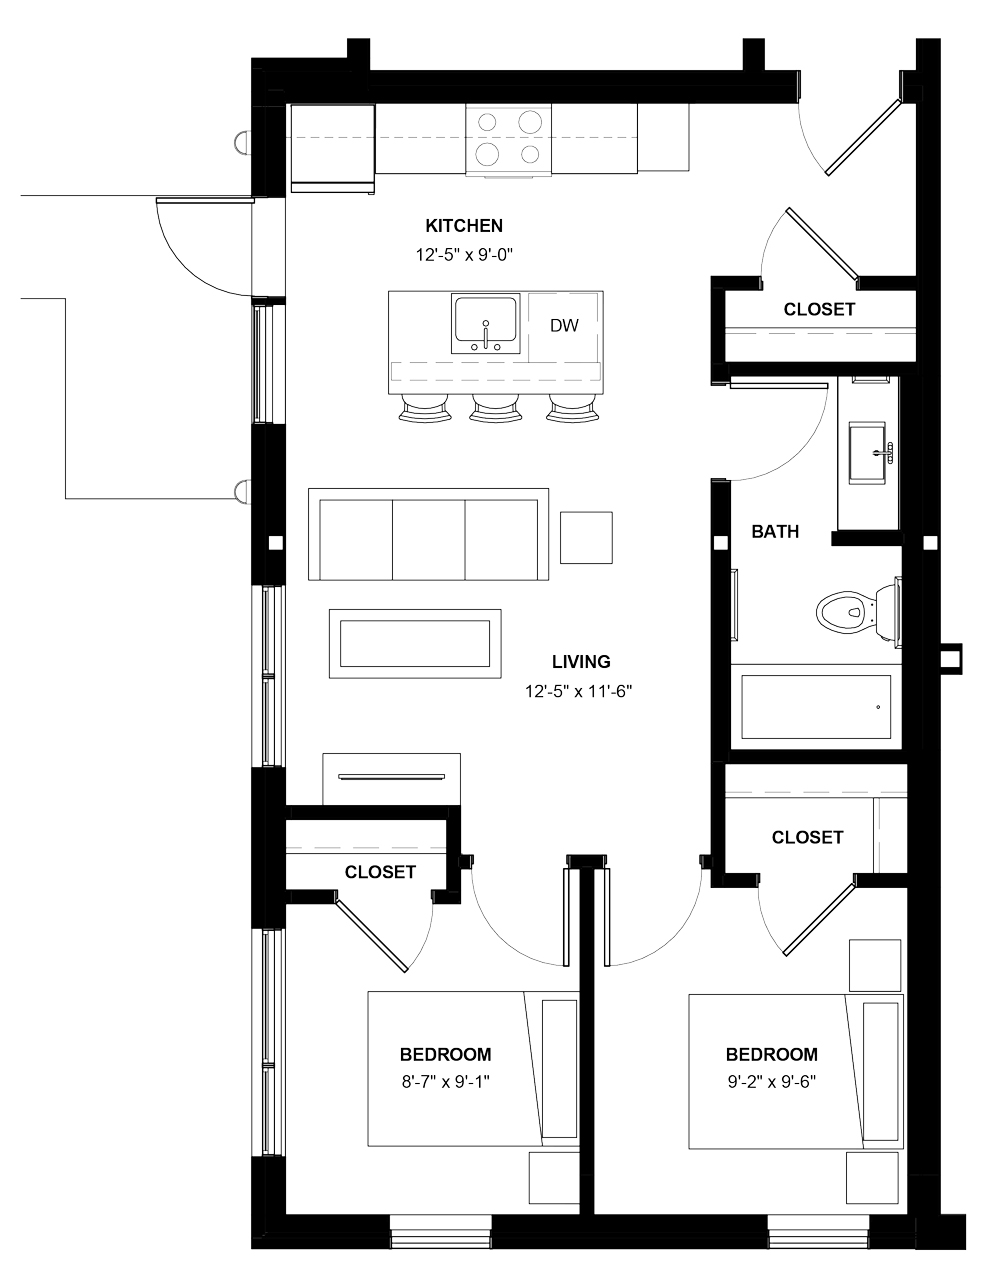wall: (904, 550, 943, 1217), (367, 67, 800, 102), (491, 1213, 773, 1248), (919, 36, 941, 377), (896, 378, 943, 534), (248, 430, 293, 582), (706, 550, 727, 853), (248, 53, 287, 202), (251, 1217, 398, 1253), (577, 861, 591, 1215), (252, 769, 281, 927), (281, 59, 373, 107), (719, 361, 944, 378), (862, 1213, 964, 1248), (277, 803, 460, 821), (720, 748, 898, 763), (251, 1157, 287, 1221), (918, 273, 944, 363), (708, 859, 758, 894), (827, 527, 910, 548), (706, 480, 733, 540), (446, 813, 464, 903), (850, 871, 916, 894), (858, 277, 933, 292), (712, 269, 723, 380), (277, 890, 333, 905), (710, 277, 762, 290), (744, 36, 762, 69), (435, 886, 454, 903)
